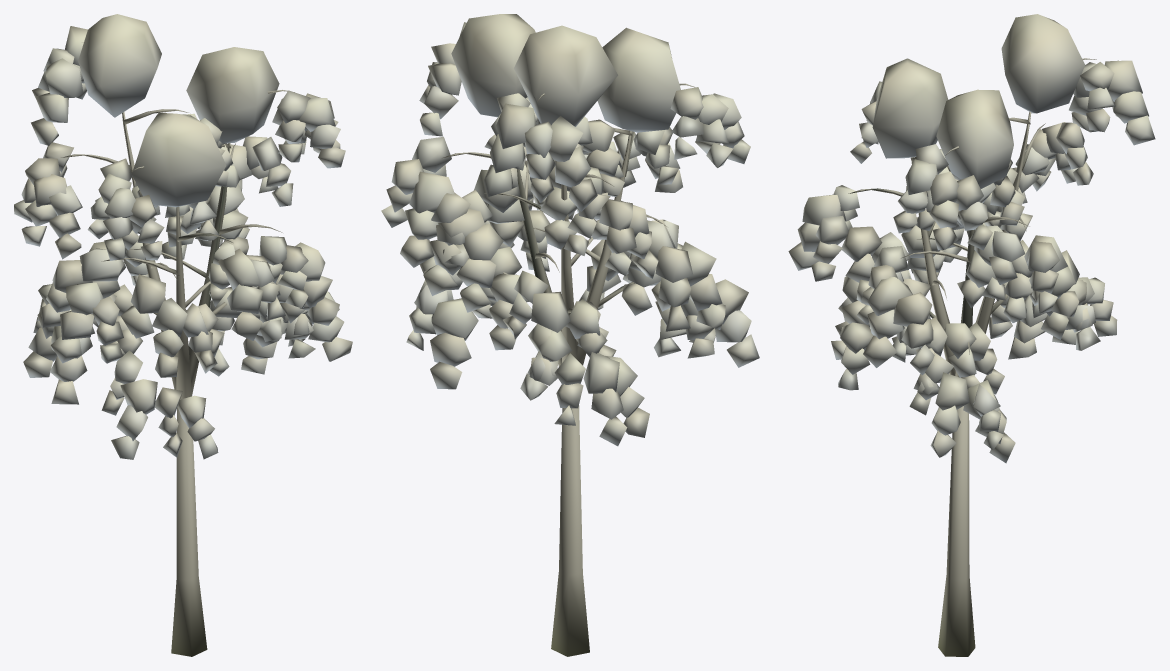
The picture shows the model from 3 angles, left to right: view 1: azimuth 30°, elevation 25°; view 2: azimuth 150°, elevation 25°; view 3: azimuth 270°, elevation 25°; orthographic projection. The views are drawn at different scales.
Parts seen in each view (by area): view 1: crown, trunk; view 2: crown, trunk; view 3: crown, trunk.
Part boxes in pixels (x1,y1,x2,y2): crown: (14,14,352,459); trunk: (61,42,294,656); crown: (381,14,759,446); trunk: (442,83,694,656); crown: (788,14,1155,463); trunk: (848,58,1096,656).
Size of the model in its own units: 7.57 by 15.13 by 8.1.
